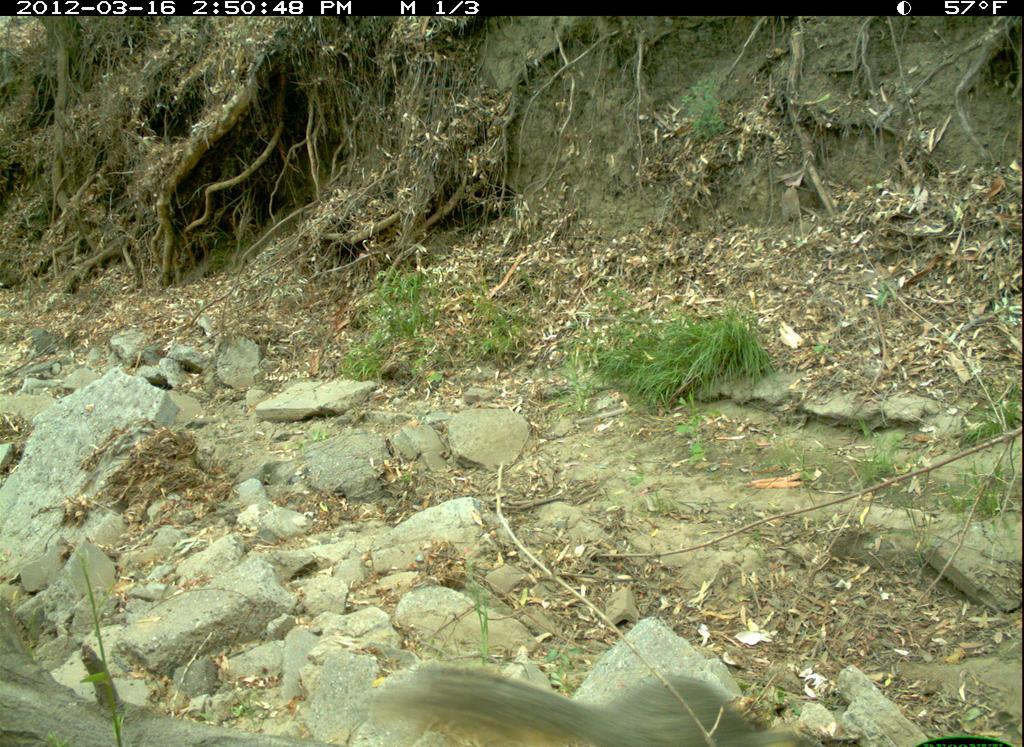squirrel: (350, 652, 802, 742)
